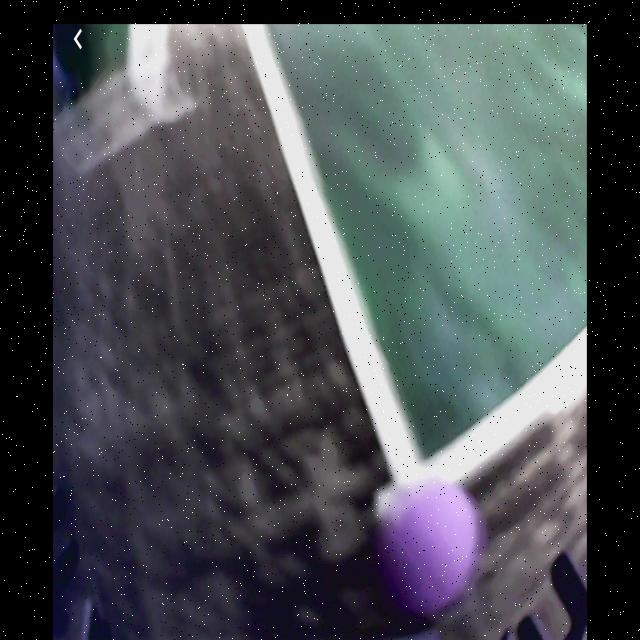ball: (386, 483, 480, 615)
